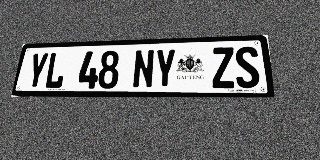4: (77, 51, 101, 89)
8: (97, 50, 121, 89)
L: (43, 52, 68, 89)
N: (132, 49, 155, 88)
S: (234, 46, 261, 88)
Y: (25, 52, 49, 89), (154, 49, 176, 88)
Z: (211, 47, 236, 88)
